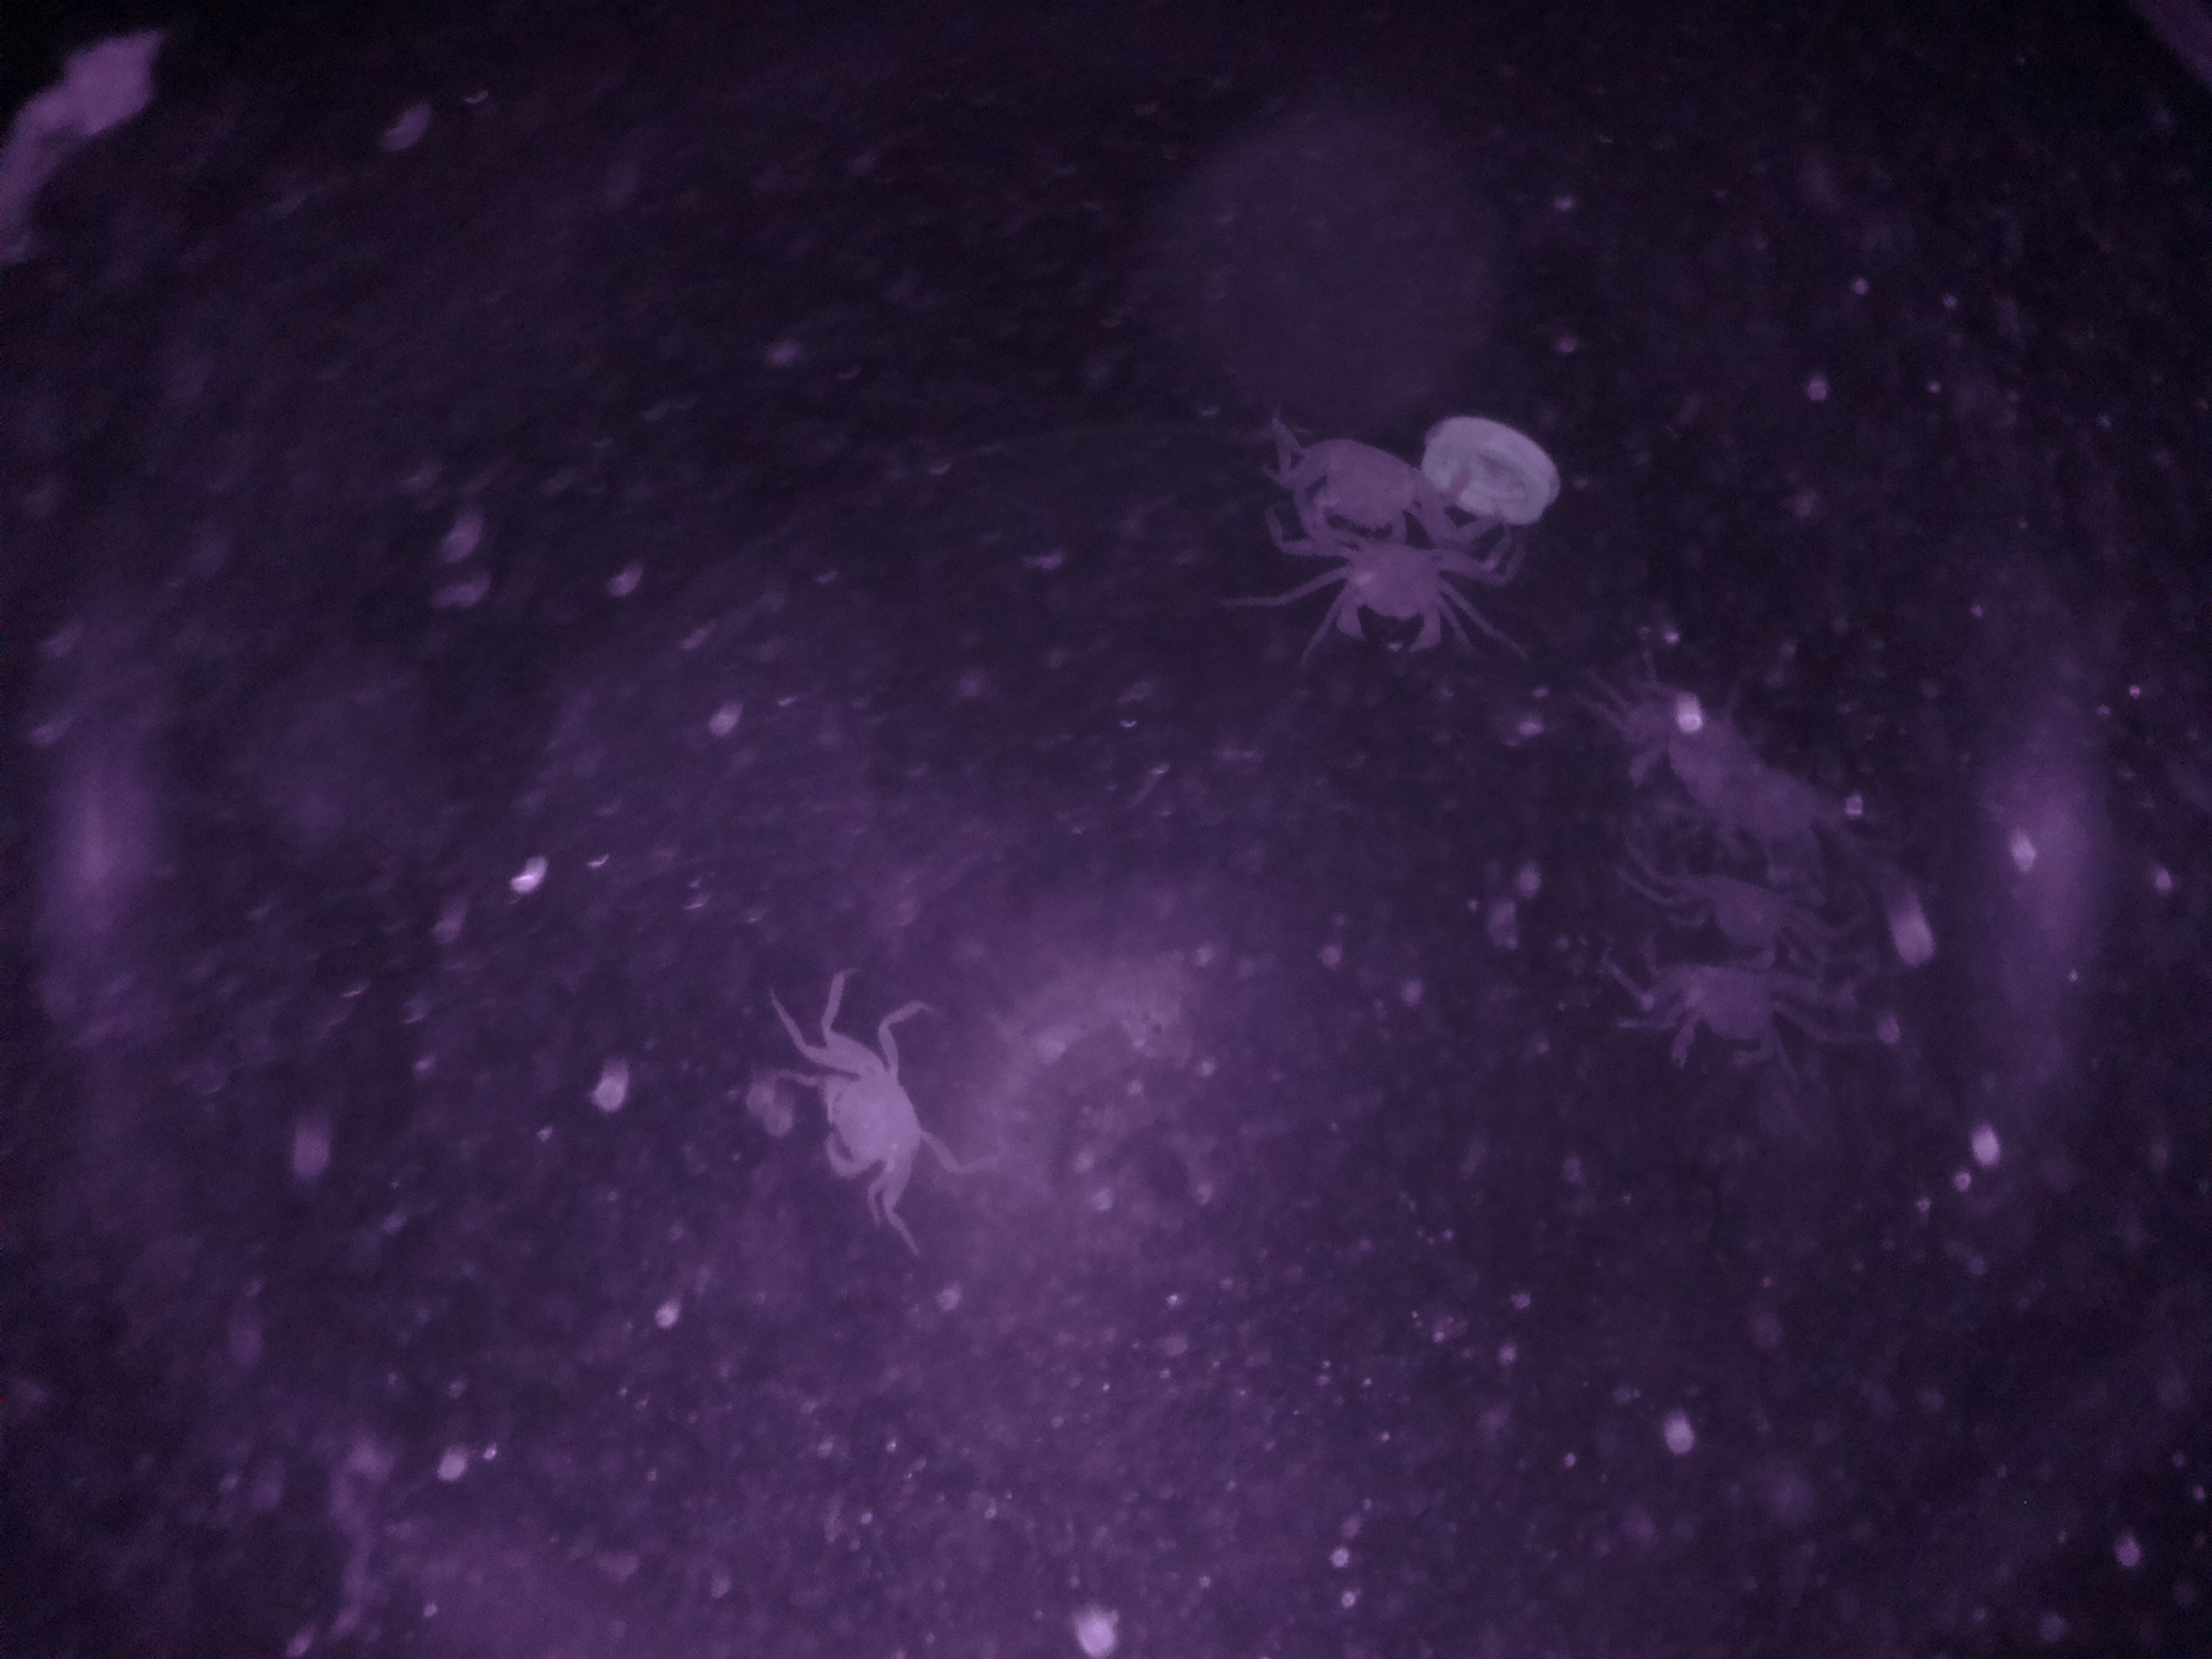Crab: (779, 986, 954, 1209), (1306, 525, 1498, 660)
